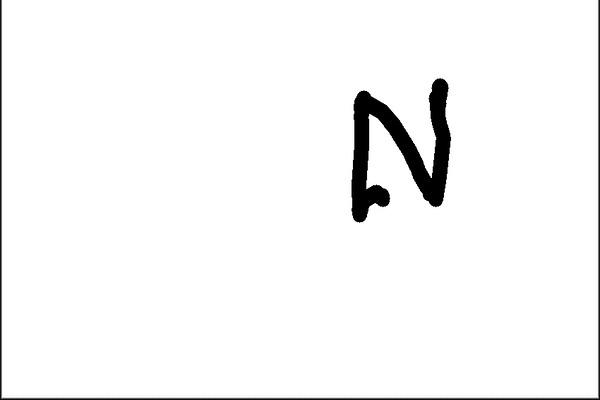N: (344, 71, 459, 227)
